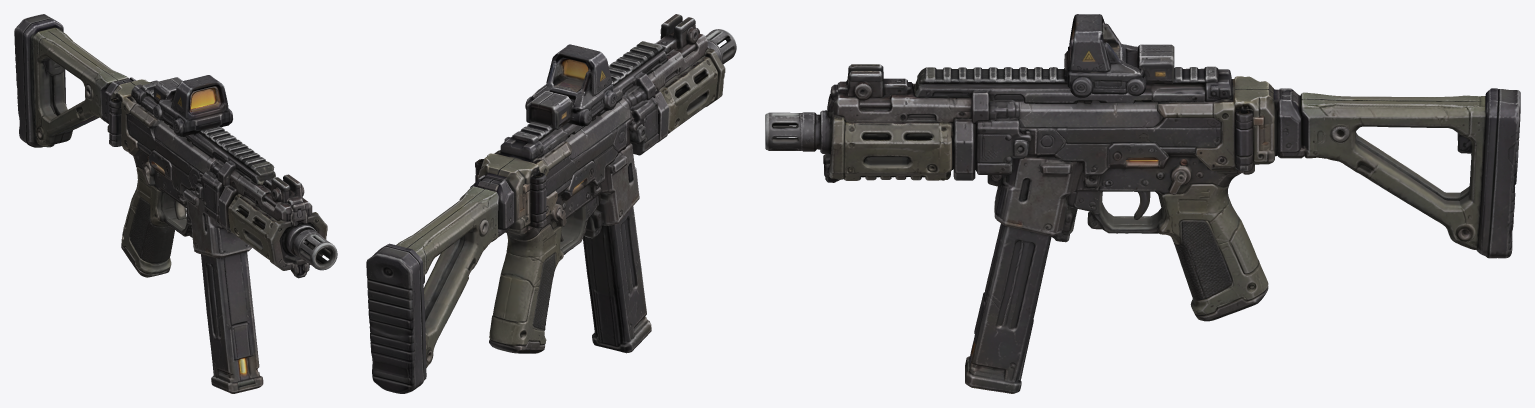
File: smg-textured-v2.glb
3 renders of one model, left to right at view 1: azimuth 30°, elevation 25°; view 2: azimuth 150°, elevation 25°; view 3: azimuth 270°, elevation 25°, orthographic. The views are drawn at different scales.
Visible parts, largest first — view 1: tripo_node_7a5dbbda-ac85-4e40-90f9-d0ce7d9d751c; view 2: tripo_node_7a5dbbda-ac85-4e40-90f9-d0ce7d9d751c; view 3: tripo_node_7a5dbbda-ac85-4e40-90f9-d0ce7d9d751c.
Part boxes in pixels (left/top/right/bottom): tripo_node_7a5dbbda-ac85-4e40-90f9-d0ce7d9d751c: left=14, top=14, right=337, bottom=393; tripo_node_7a5dbbda-ac85-4e40-90f9-d0ce7d9d751c: left=366, top=14, right=736, bottom=393; tripo_node_7a5dbbda-ac85-4e40-90f9-d0ce7d9d751c: left=765, top=14, right=1520, bottom=393.
Size of the model in its own units: 0.115 by 0.5204 by 0.9804.
Materials: 1 (1 with a texture image).
